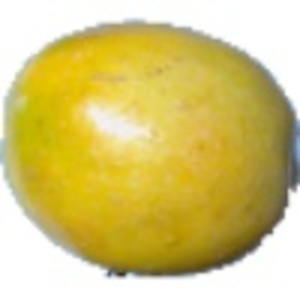maracujá: (1, 19, 300, 280)
